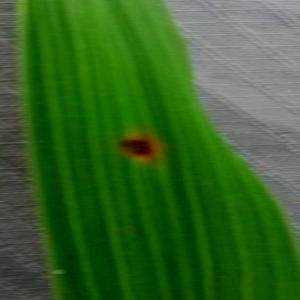0 BrownSpot: (110, 129, 163, 165)
